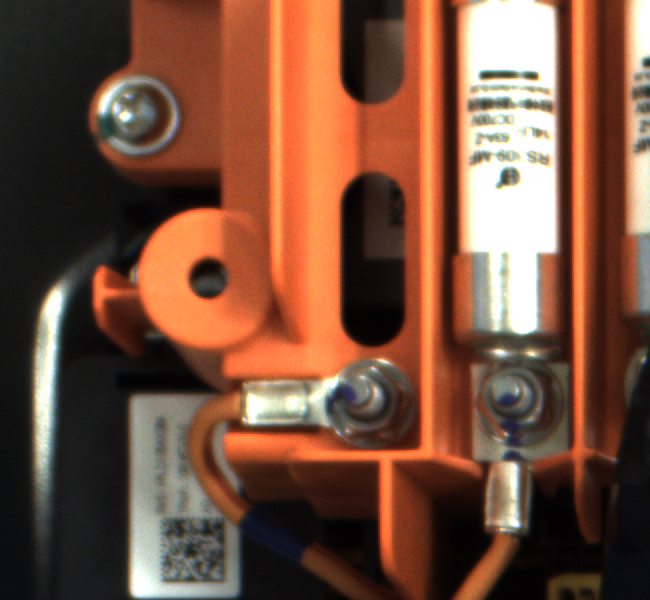screw_m: (88, 71, 190, 168)
screw_s: (299, 352, 423, 462), (462, 348, 576, 458)
